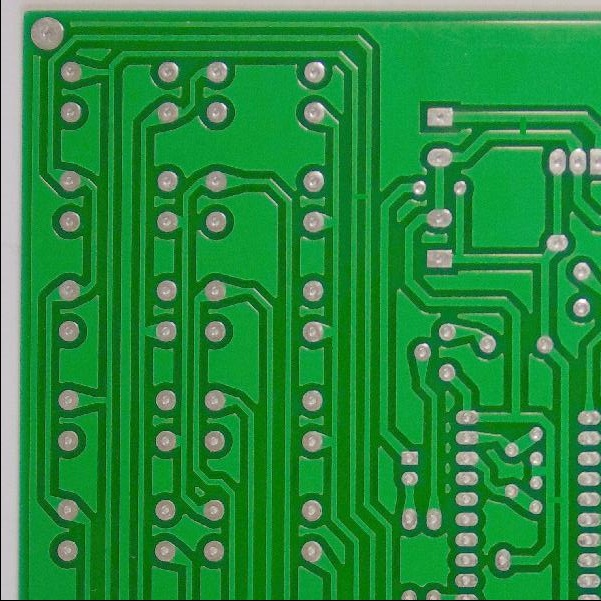short: (511, 110, 535, 146), (346, 186, 373, 206), (546, 487, 569, 509)
